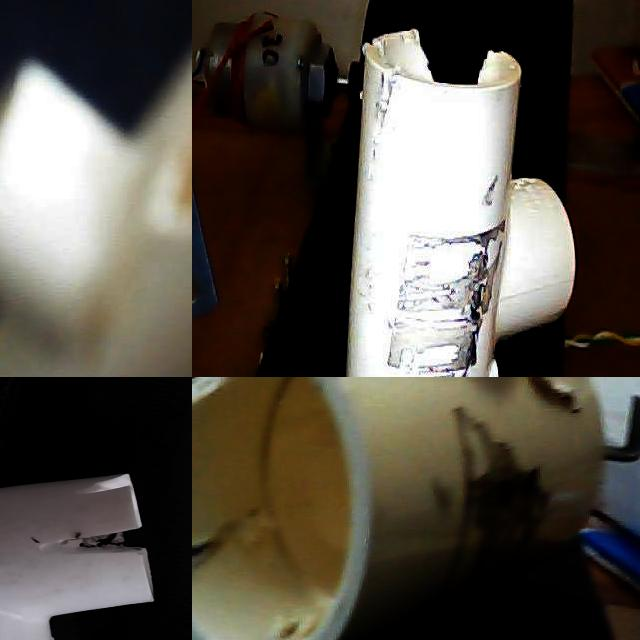Defective: (451, 409, 579, 596), (375, 203, 493, 377), (192, 515, 317, 640), (408, 23, 506, 142), (164, 25, 192, 282), (34, 535, 162, 566), (526, 377, 599, 429), (372, 66, 404, 160), (474, 339, 500, 377), (364, 28, 384, 74)
L Joint: (0, 475, 154, 640)
T Joint: (192, 377, 610, 640), (346, 29, 576, 377), (0, 45, 192, 377)
